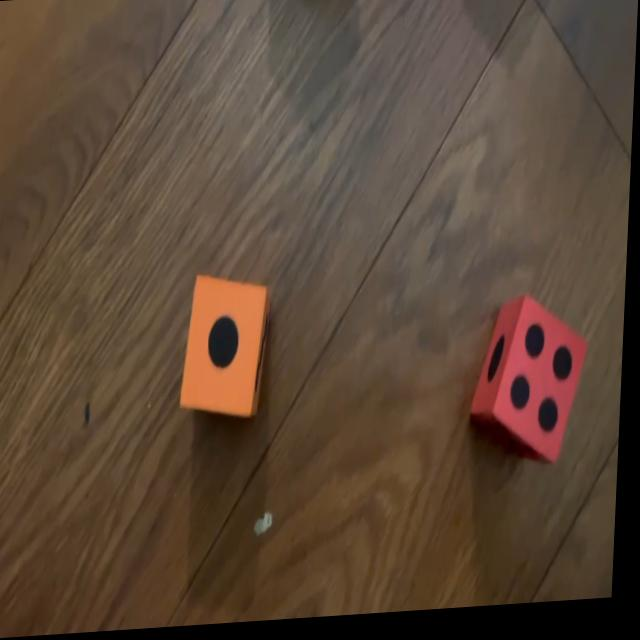red_block: (474, 296, 594, 476)
